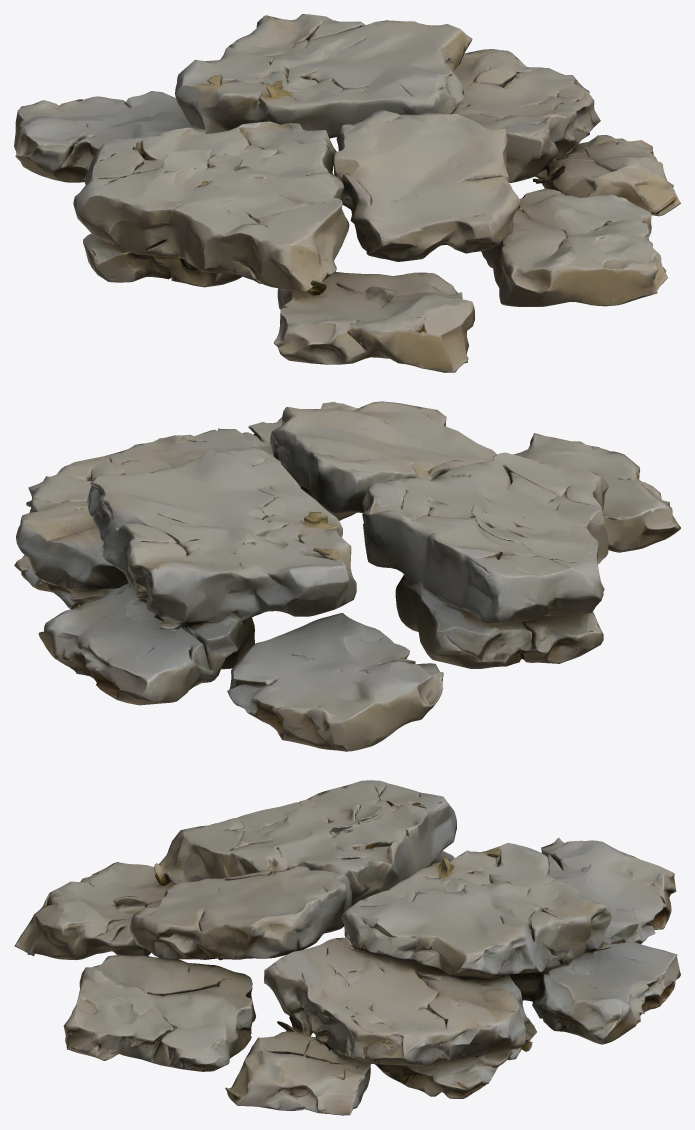
Rendered from rock-flat-slab-cluster.glb.
3 views of the same model, one above another, from view 1: azimuth 30°, elevation 25°; view 2: azimuth 150°, elevation 25°; view 3: azimuth 270°, elevation 25° (orthographic). The views are drawn at different scales.
Parts seen in each view (by area): view 1: tripo_node_9afd4678-aca6-4c80-ad40-b5a225bf4d08; view 2: tripo_node_9afd4678-aca6-4c80-ad40-b5a225bf4d08; view 3: tripo_node_9afd4678-aca6-4c80-ad40-b5a225bf4d08.
Part boxes in pixels (left/top/right/bottom): tripo_node_9afd4678-aca6-4c80-ad40-b5a225bf4d08: left=14, top=14, right=680, bottom=372; tripo_node_9afd4678-aca6-4c80-ad40-b5a225bf4d08: left=14, top=401, right=680, bottom=751; tripo_node_9afd4678-aca6-4c80-ad40-b5a225bf4d08: left=14, top=780, right=680, bottom=1115.
Size of the model in its own units: 1.46 by 0.3 by 1.58.
Materials: 1 (1 with a texture image).
